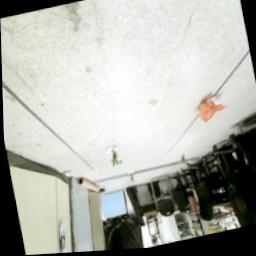herb: (109, 147, 124, 173), (180, 155, 188, 167), (127, 175, 135, 185)
wild: (196, 99, 231, 129)
